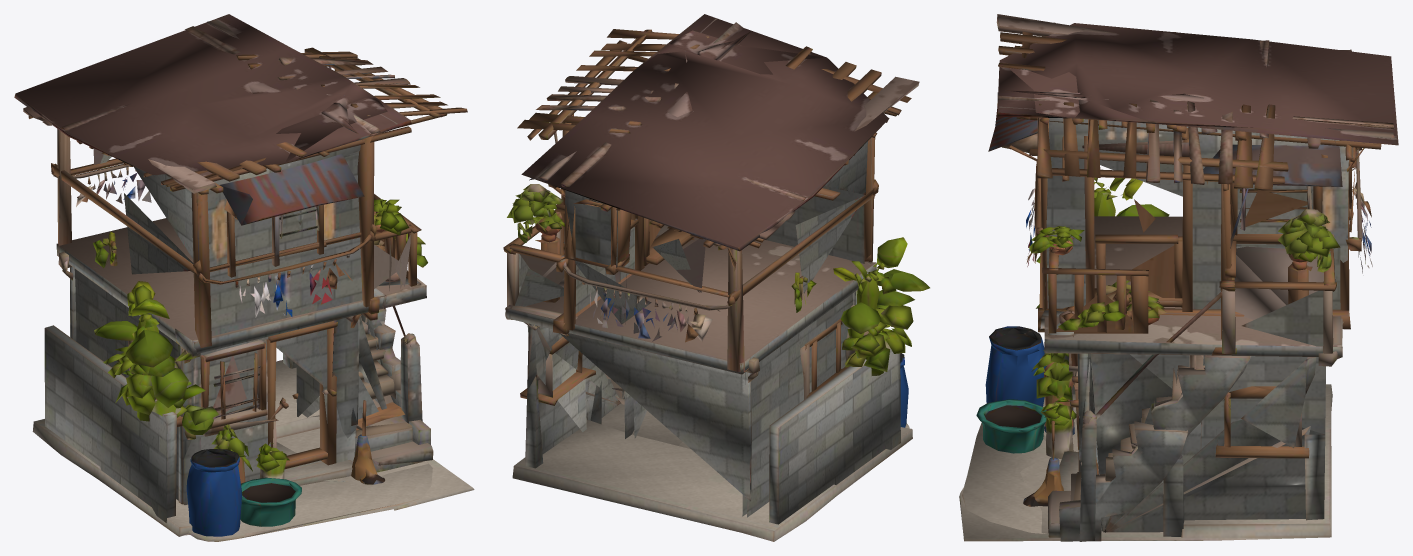
The model's file is house_3.glb.
3 views of the same model, side by side, from view 1: azimuth 30°, elevation 25°; view 2: azimuth 150°, elevation 25°; view 3: azimuth 270°, elevation 25° (orthographic). The views are drawn at different scales.
Parts seen in each view (by area): view 1: Mesh0; view 2: Mesh0; view 3: Mesh0.
Part boxes in pixels (x1,y1,x2,y2): Mesh0: (14,14,474,541); Mesh0: (503,14,929,541); Mesh0: (959,14,1398,541).
Size of the model in its own units: 0.9295 by 0.9992 by 0.9874.
1 material, 1 textured.
